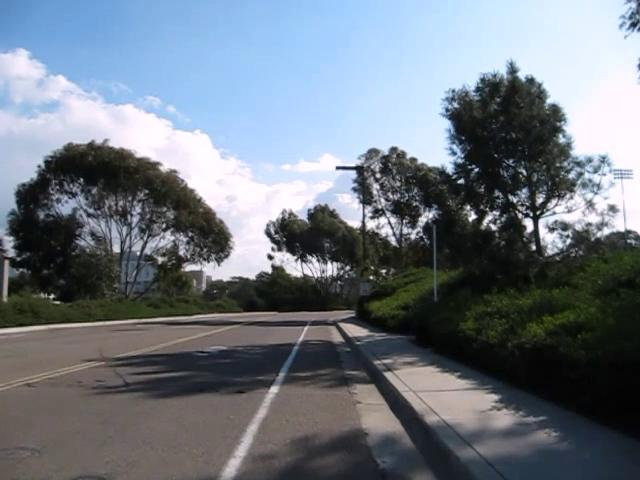speedLimitUrdbl: (358, 281, 371, 297)
